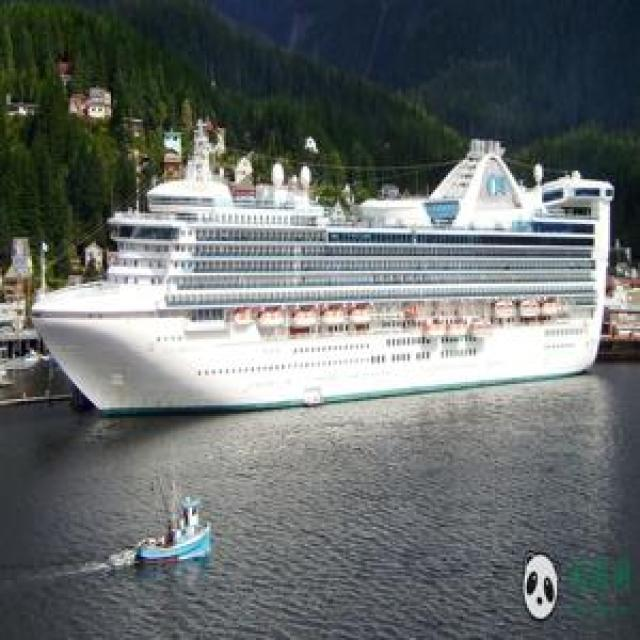fishing boat: (128, 476, 216, 564)
passenger ship: (33, 134, 630, 415)
